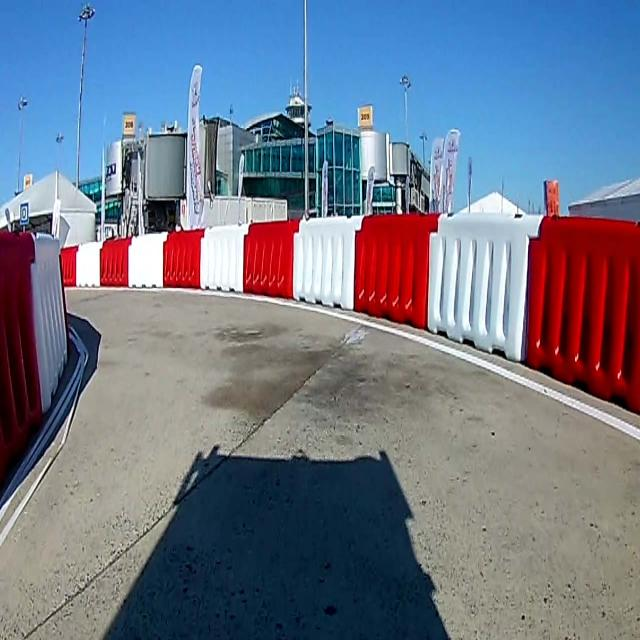durak: (19, 203, 29, 224)
